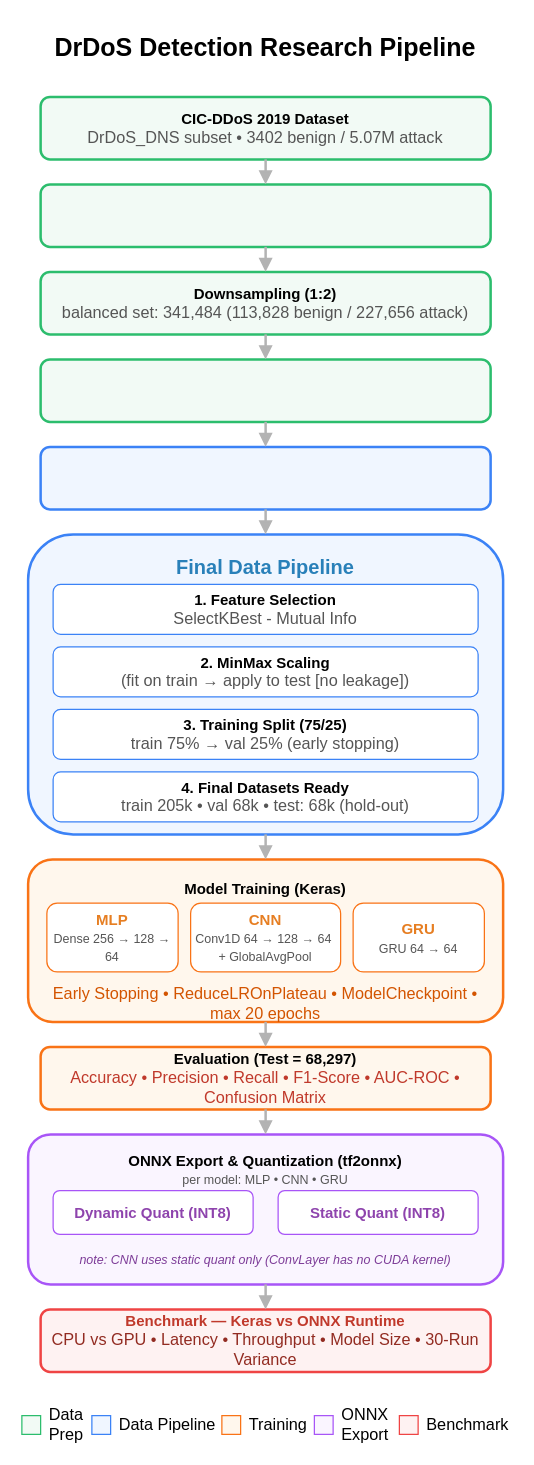
This 534x1465 diagram has some shape labels left out. The shapes that lost their labels are listed below. From the top down, each one's centre as x and y in pixels, then its label:
[265,215]: Combine BENIGN Data merge all benign packets → 113,828 benign
[265,390]: Data Preprocessing drop ID & 12 constant cols • impute Inf/NaN • Min-Max scale
[265,477]: Initial Train – Test Split (80/20) train 273,187 • test hold-out: 68,297
